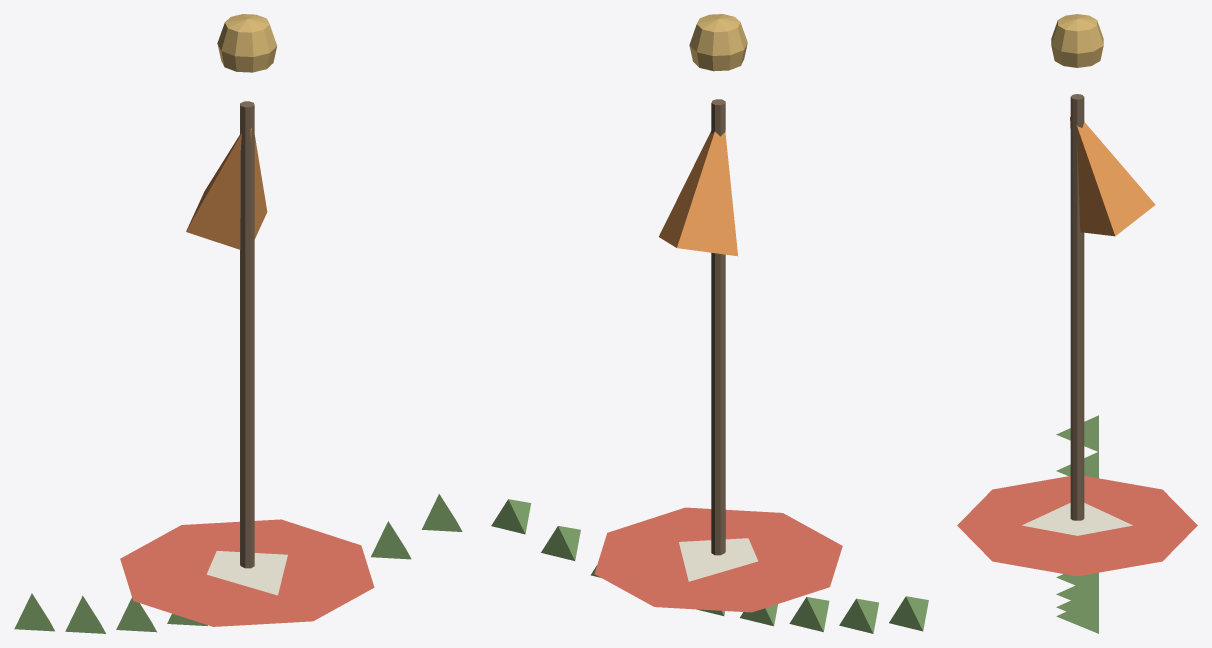
File: festival-kit.glb
3 views of the same model, side by side, from view 1: azimuth 30°, elevation 25°; view 2: azimuth 150°, elevation 25°; view 3: azimuth 270°, elevation 25° (orthographic). The views are drawn at different scales.
Visible parts, largest first — view 1: RangoliDecal, Gudi, ToranGarland, PaperKite; view 2: RangoliDecal, Gudi, ToranGarland, PaperKite; view 3: RangoliDecal, Gudi, ToranGarland, PaperKite.
Boxes of the visible parts, x1,y1,x2,y2 form: RangoliDecal: [120, 519, 374, 626]; Gudi: [186, 14, 276, 568]; ToranGarland: [14, 494, 462, 633]; PaperKite: [206, 551, 287, 595]; RangoliDecal: [594, 507, 842, 612]; Gudi: [659, 14, 747, 555]; ToranGarland: [491, 499, 928, 633]; PaperKite: [679, 538, 757, 581]; RangoliDecal: [957, 476, 1197, 576]; Gudi: [1051, 14, 1155, 520]; ToranGarland: [1056, 415, 1098, 633]; PaperKite: [1022, 503, 1132, 535].
Bounding box in the file's own units: 0.5433 × 0.7025 × 0.28.
